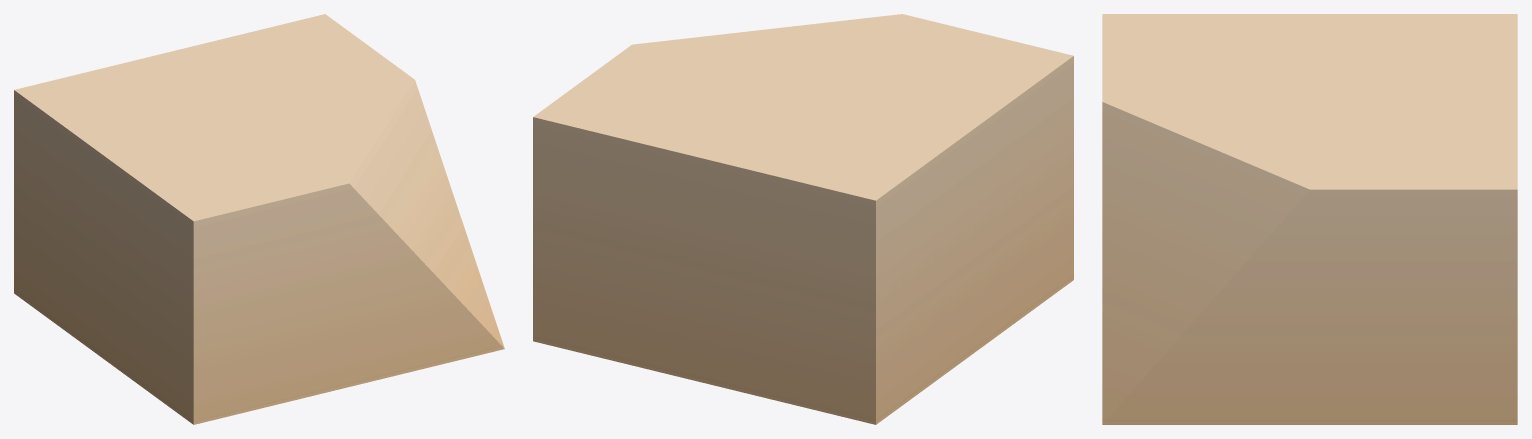
File: building-corner-top.glb
The picture shows the model from 3 angles, left to right: view 1: azimuth 30°, elevation 25°; view 2: azimuth 150°, elevation 25°; view 3: azimuth 270°, elevation 25°; orthographic projection. The views are drawn at different scales.
Parts seen in each view (by area): view 1: building-corner-top; view 2: building-corner-top; view 3: building-corner-top.
Boxes of the visible parts, x1,y1,x2,y2 form: building-corner-top: (14,14,504,424); building-corner-top: (533,14,1073,424); building-corner-top: (1102,14,1517,424).
Bounding box in the file's own units: 1 × 0.625 × 1.
Materials: 1 (1 with a texture image).
